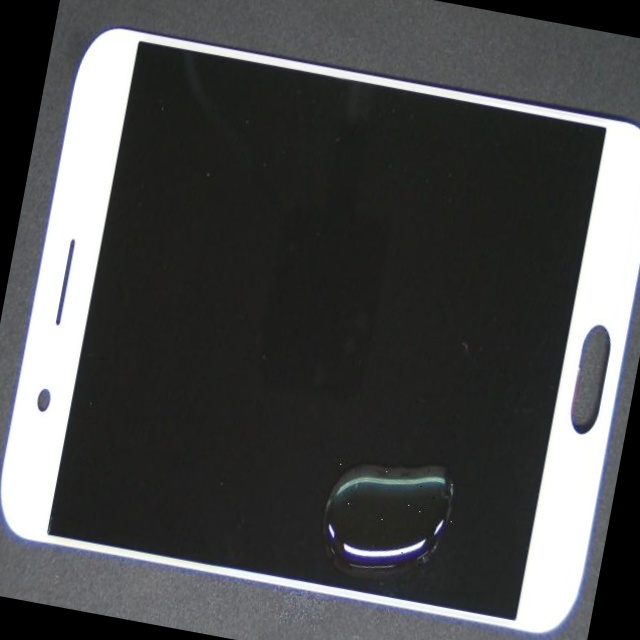oil: (206, 200, 636, 640)
